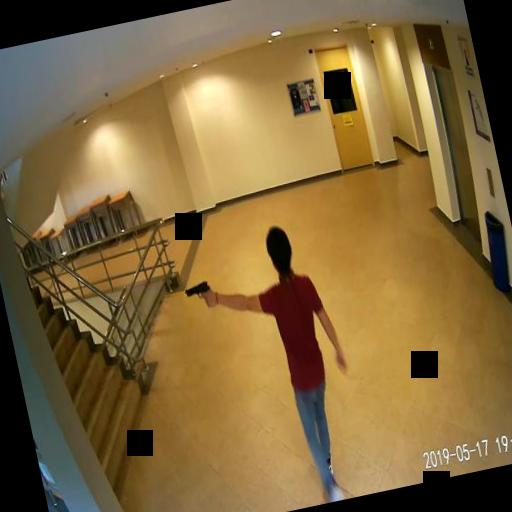Handgun: (182, 277, 212, 310)
